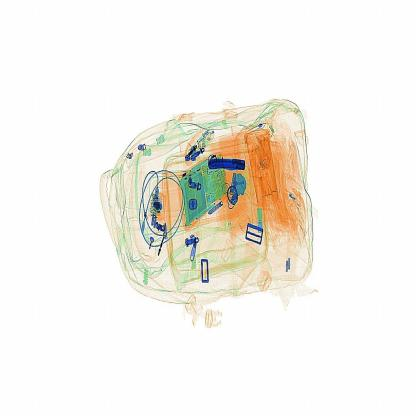knife: (204, 152, 250, 187)
